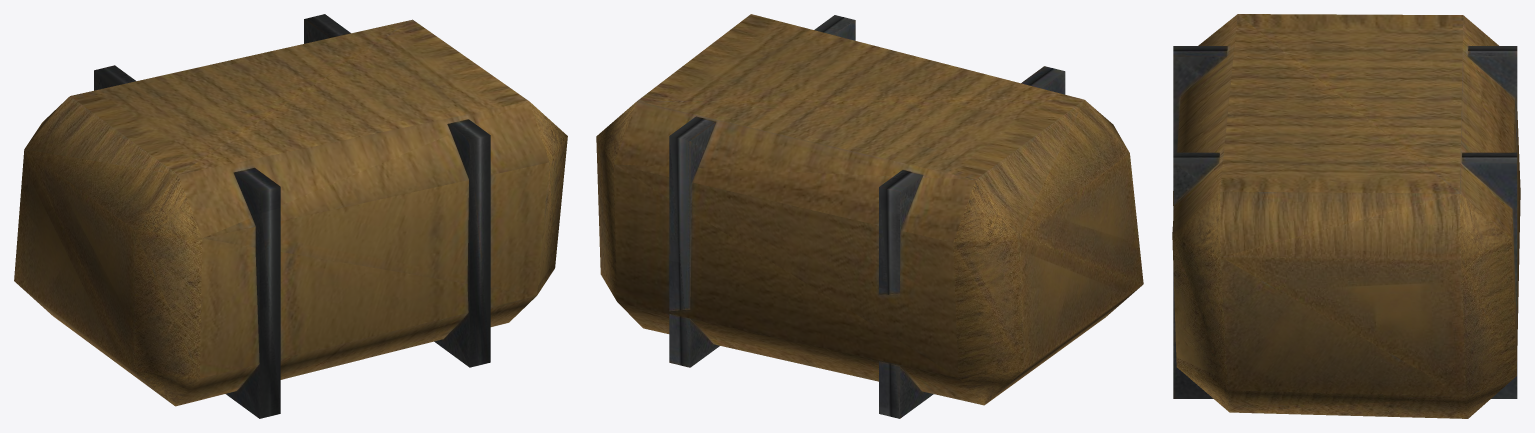
Rendered from hay_bale.glb.
3 renders of one model, left to right at view 1: azimuth 30°, elevation 25°; view 2: azimuth 150°, elevation 25°; view 3: azimuth 270°, elevation 25°, orthographic. The views are drawn at different scales.
Parts seen in each view (by area): view 1: hay_bale; view 2: hay_bale; view 3: hay_bale.
Boxes of the visible parts, left/top/right/bottom form: hay_bale: left=14, top=14, right=567, bottom=418; hay_bale: left=596, top=14, right=1143, bottom=418; hay_bale: left=1172, top=14, right=1520, bottom=418.
Bounding box in the file's own units: 1.24 × 0.6375 × 0.8303.
1 material, 1 textured.
